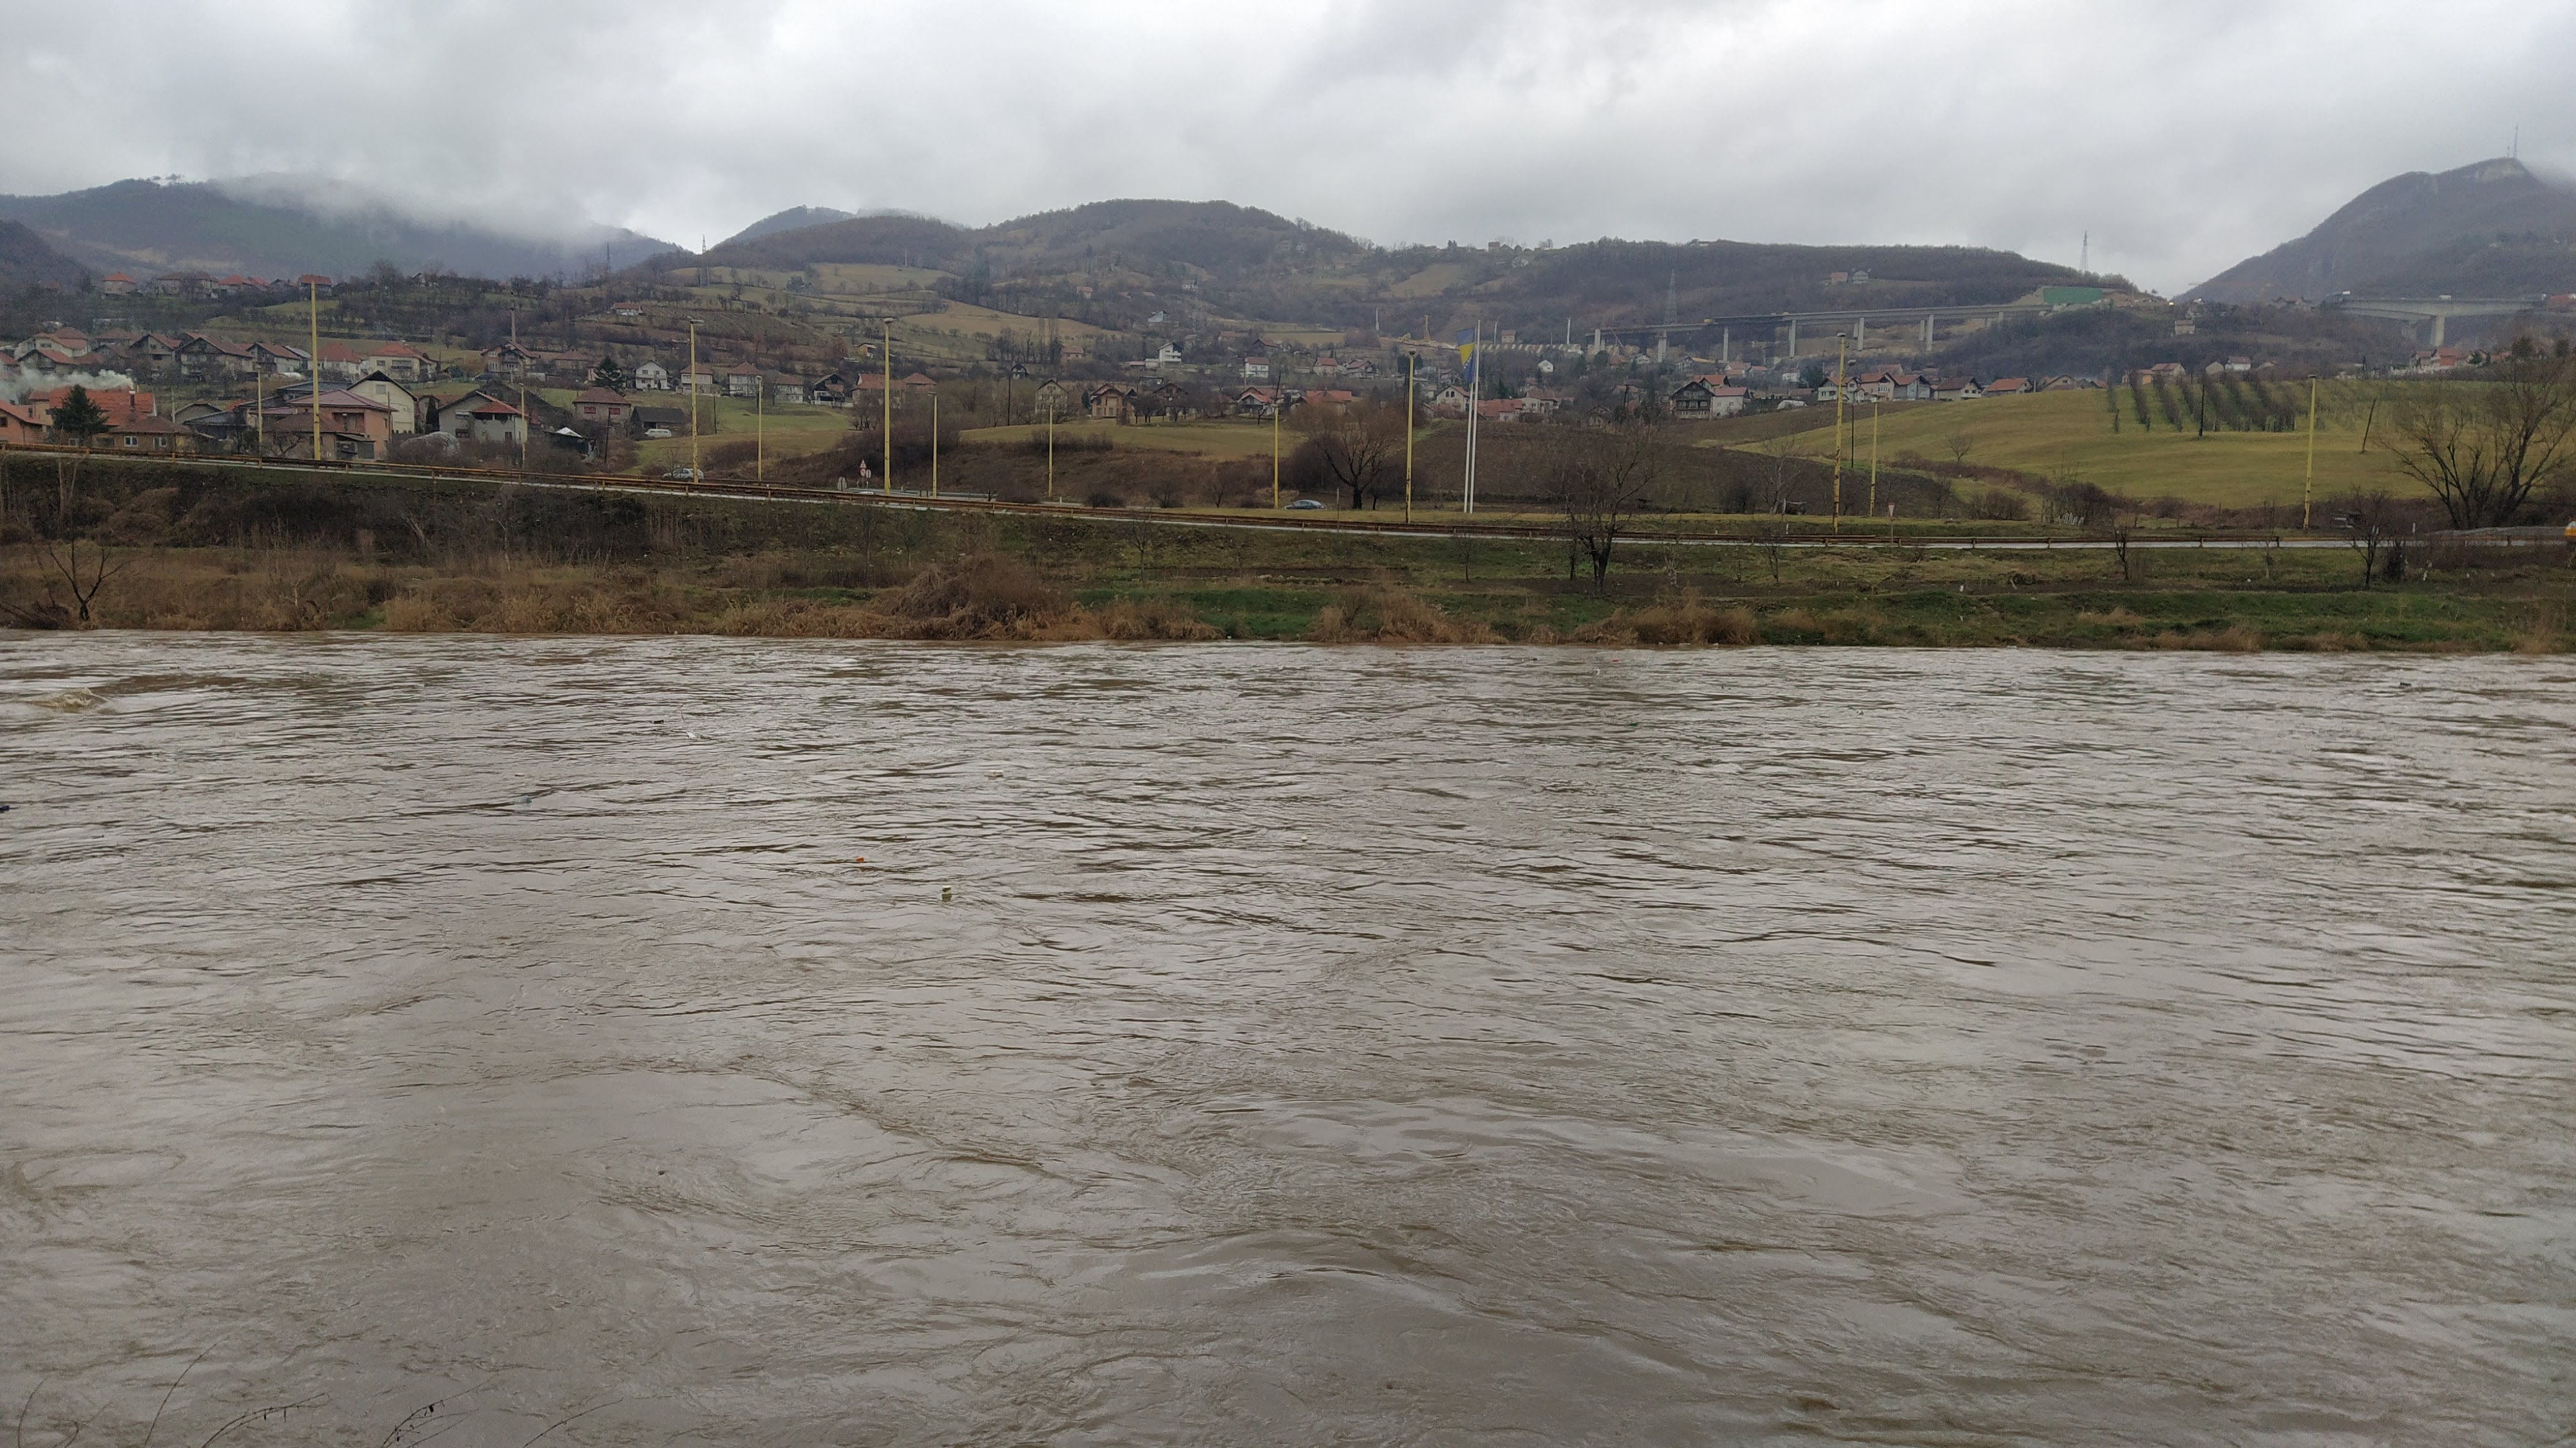Plastic Bottle: (511, 795, 531, 802), (985, 768, 1003, 775), (686, 731, 697, 740), (2399, 680, 2411, 685), (0, 804, 9, 811), (414, 682, 425, 687), (653, 719, 663, 724), (363, 703, 373, 706), (515, 772, 525, 775), (1626, 722, 1637, 726), (855, 857, 863, 860), (1614, 659, 1619, 662)
